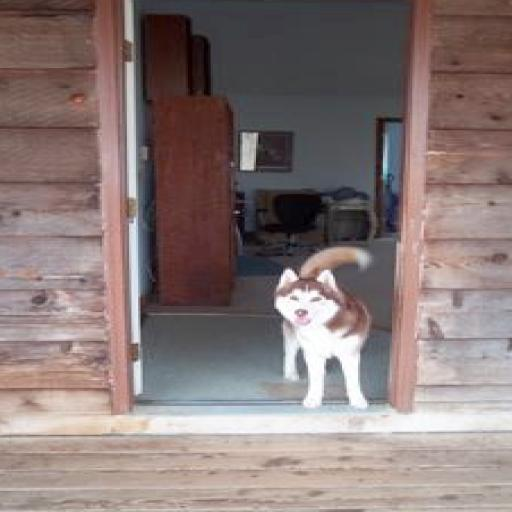dog_face: (263, 262, 340, 327)
